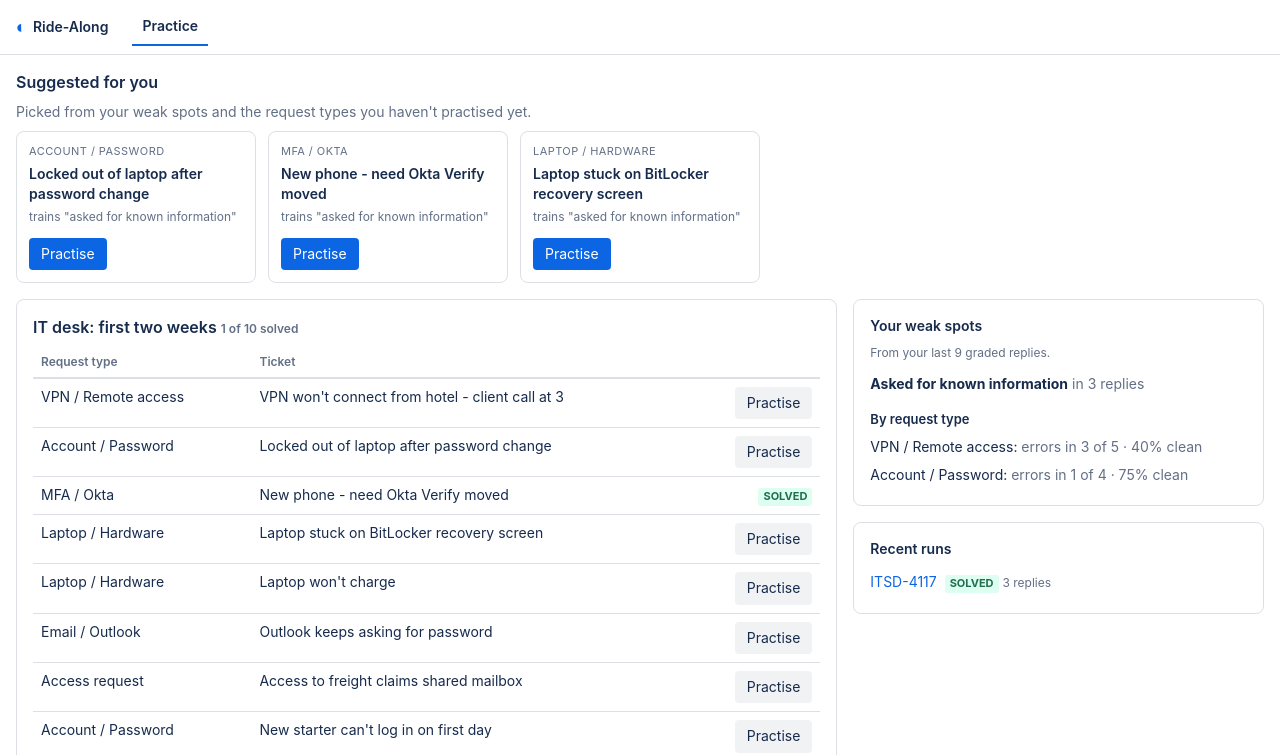
Test case: trainee flow › opens the KB article from the search panel
Click the 1st button "Practise". click: (68, 254)
box: [29,238,107,270]
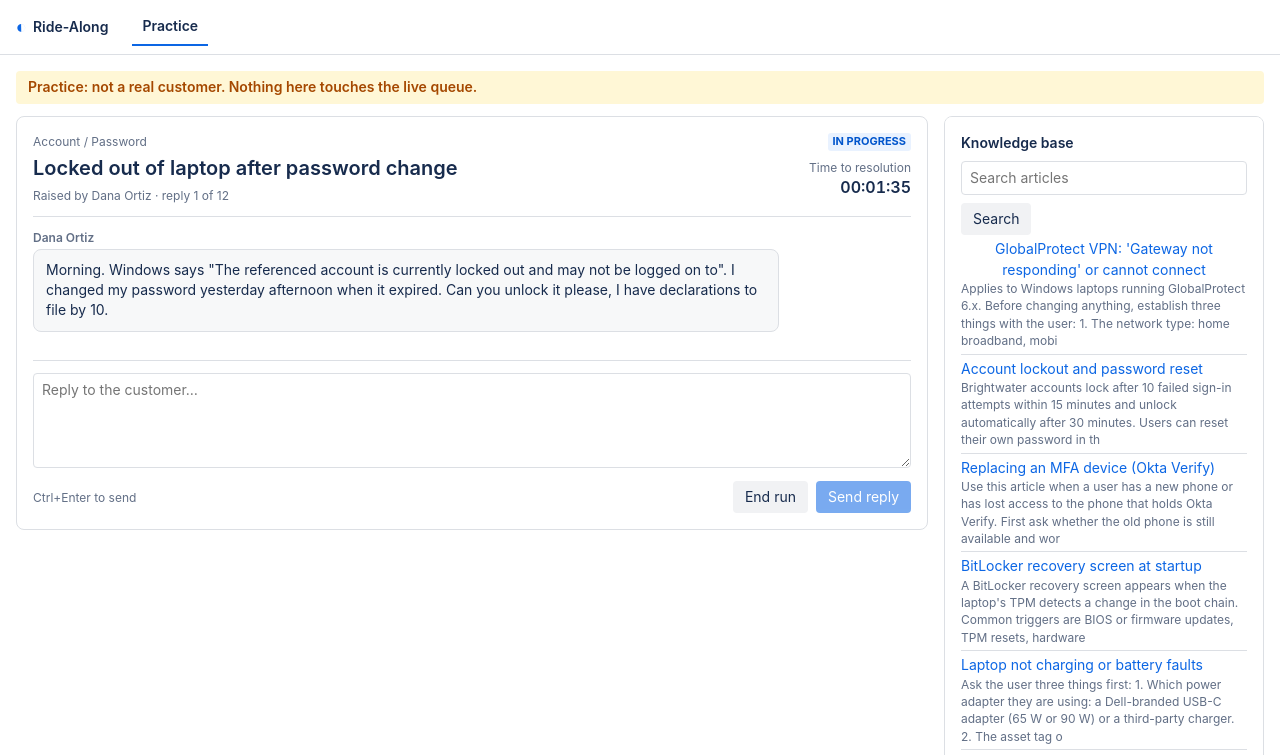
Click the button "GlobalProtect VPN". click: (1104, 260)
box: [961,240,1247,280]
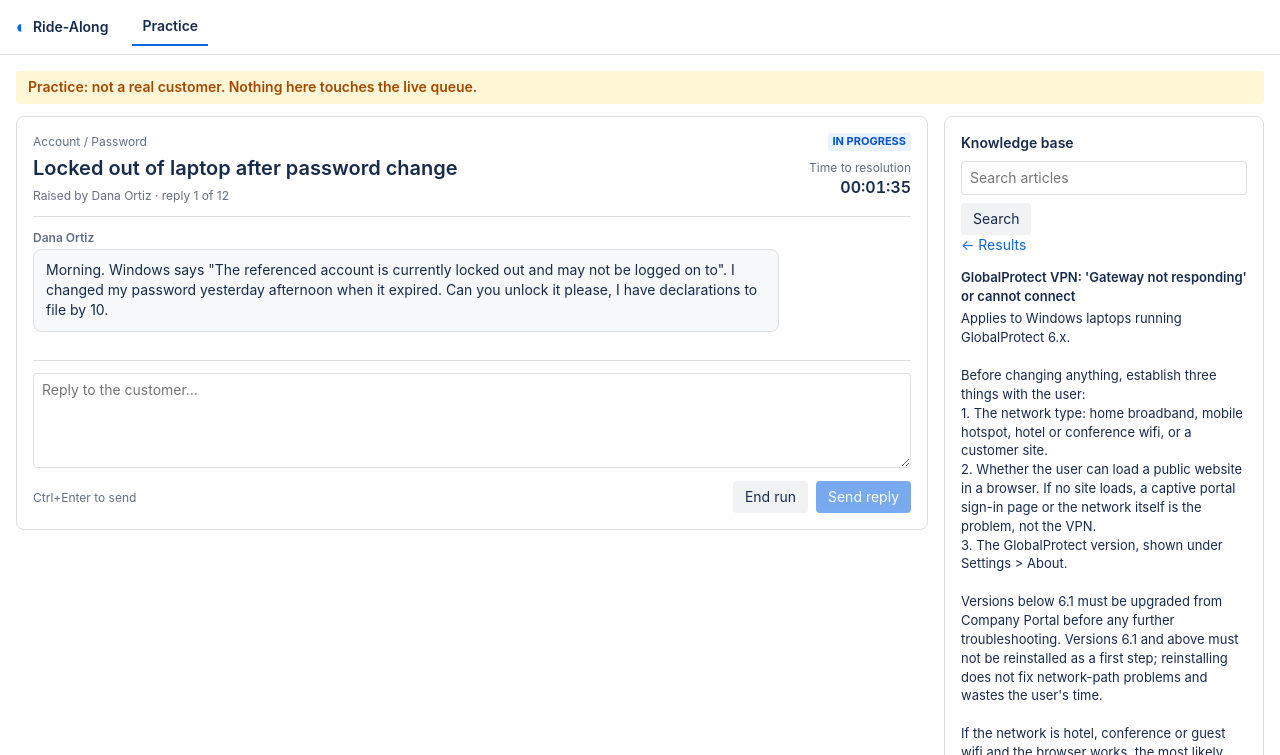
Expected: the button "← Results" is shown, [961,236,1026,256]
